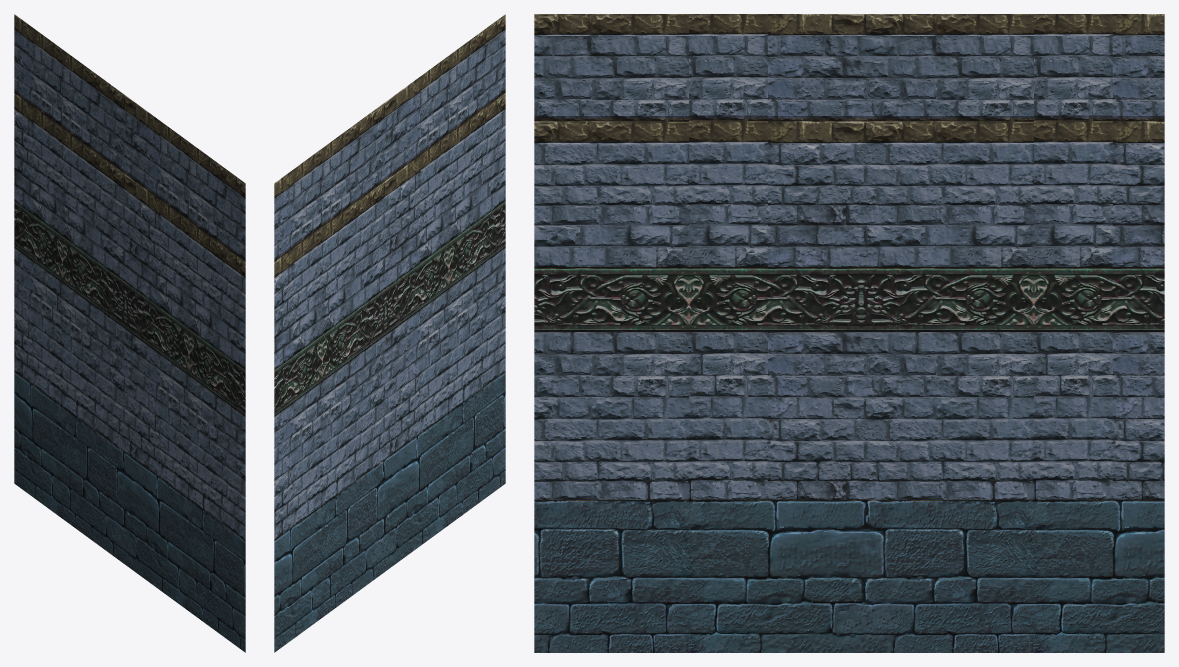
File: Kunlun_wall03.FBX
3 renders of one model, left to right at view 1: azimuth 30°, elevation 25°; view 2: azimuth 150°, elevation 25°; view 3: azimuth 270°, elevation 25°, orthographic. The views are drawn at different scales.
Visible parts, largest first — view 1: kunlun_wall03; view 2: kunlun_wall03; view 3: kunlun_wall03.
Part boxes in pixels (x1,y1,x2,y2): kunlun_wall03: (14,14,245,652); kunlun_wall03: (274,14,505,652); kunlun_wall03: (534,14,1164,652).
Size of the model in its own units: 0.0729 by 474 by 424.
1 material, 1 textured.
